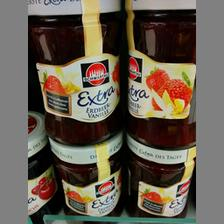Marmelade: (27, 1, 120, 144), (122, 0, 195, 148), (122, 132, 195, 216), (48, 136, 124, 216)
